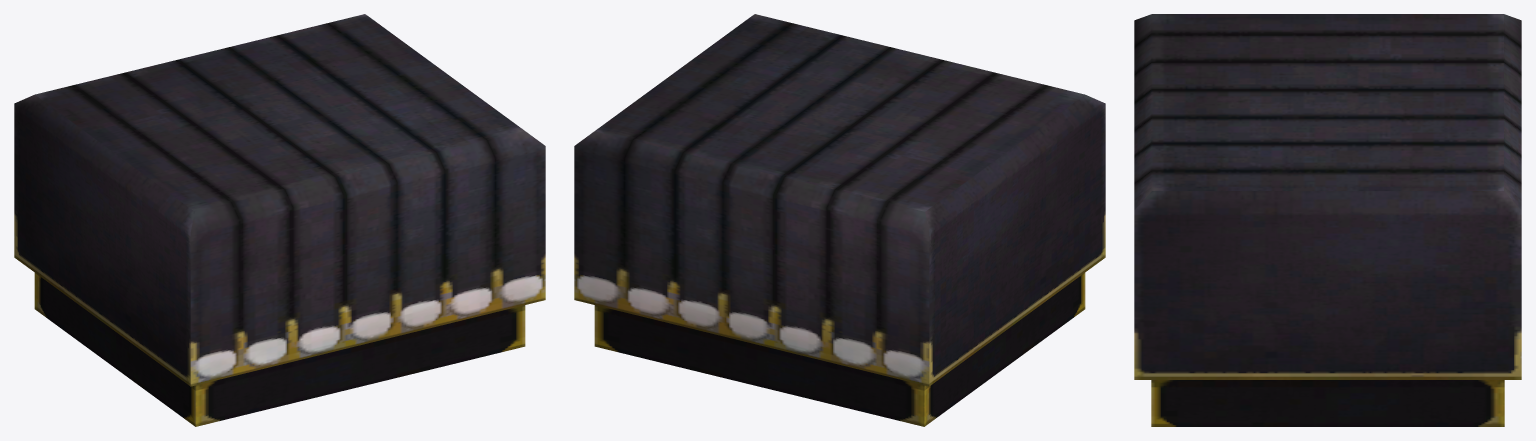
Rendered from frn_all_couch_ottoman_s1.fbx.
3 views of the same model, side by side, from view 1: azimuth 30°, elevation 25°; view 2: azimuth 150°, elevation 25°; view 3: azimuth 270°, elevation 25° (orthographic). The views are drawn at different scales.
Visible parts, largest first — view 1: mesh_node; view 2: mesh_node; view 3: mesh_node.
Part boxes in pixels (bbox=[...]): mesh_node: bbox=[14, 14, 545, 426]; mesh_node: bbox=[574, 14, 1105, 426]; mesh_node: bbox=[1134, 14, 1521, 426].
Bounding box in the file's own units: 0.6908 × 0.3998 × 0.5946.
